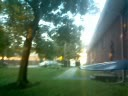window: (0, 0, 43, 96), (53, 70, 82, 96), (50, 34, 72, 51), (101, 78, 121, 95), (97, 49, 105, 54)
